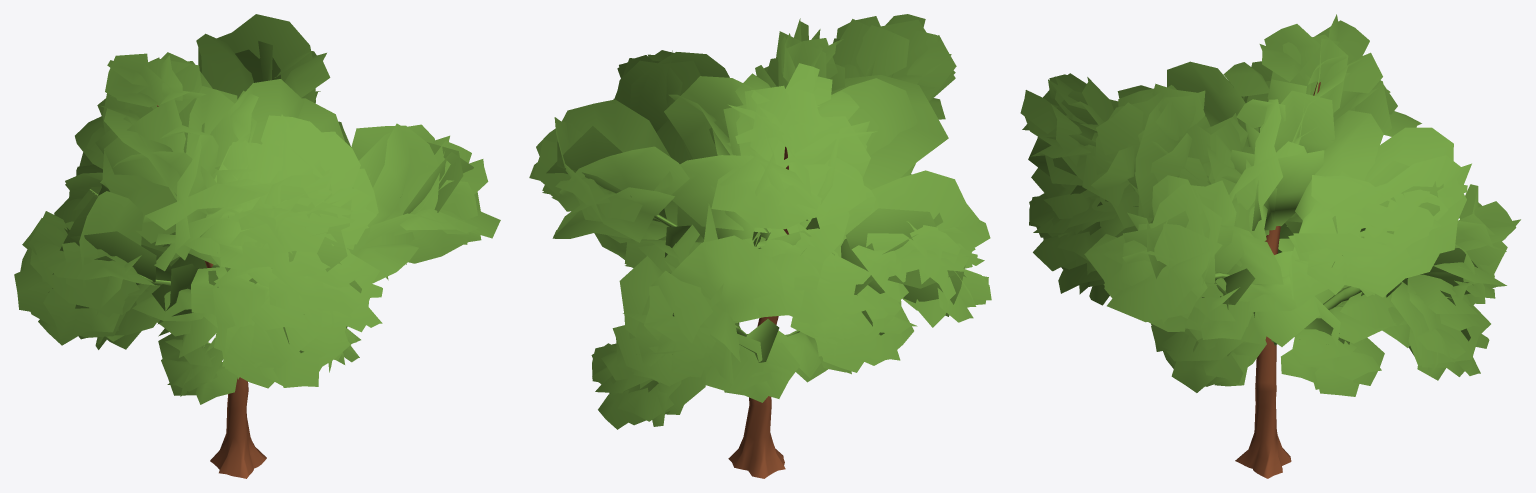
Rendered from tree_03.glb.
3 renders of one model, left to right at view 1: azimuth 30°, elevation 25°; view 2: azimuth 150°, elevation 25°; view 3: azimuth 270°, elevation 25°, orthographic. The views are drawn at different scales.
Visible parts, largest first — view 1: tree_mango_02-col; view 2: tree_mango_02-col; view 3: tree_mango_02-col.
Part boxes in pixels (bbox=[...]): tree_mango_02-col: bbox=[14, 14, 500, 478]; tree_mango_02-col: bbox=[529, 14, 991, 478]; tree_mango_02-col: bbox=[1020, 14, 1520, 478].
Bounding box in the file's own units: 8.73 × 8.12 × 8.89.
